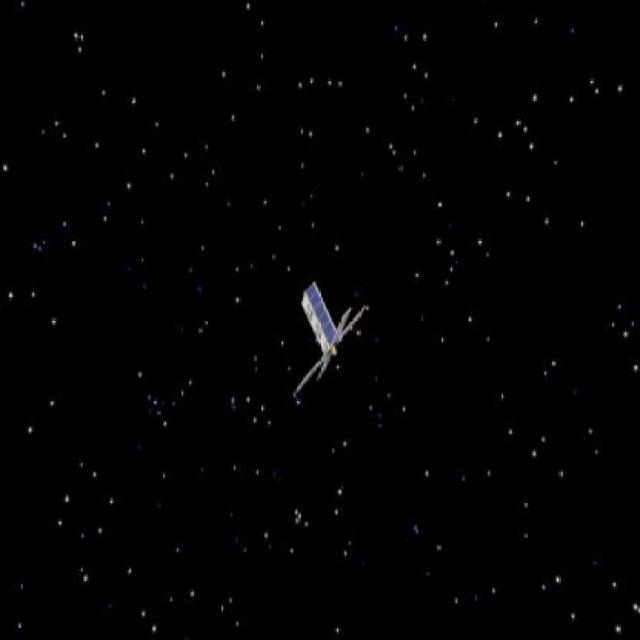satellite: (283, 269, 377, 410)
